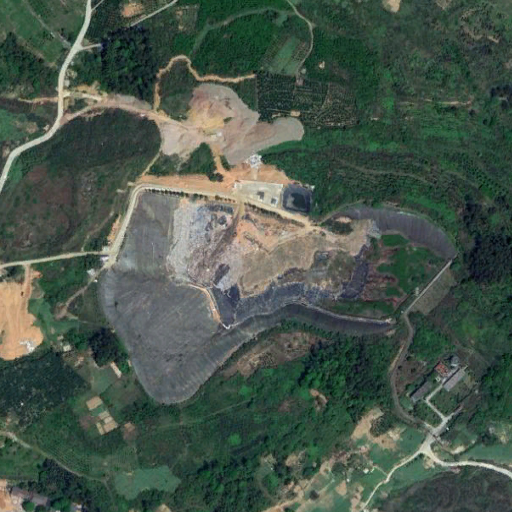lf: (97, 181, 460, 406)
